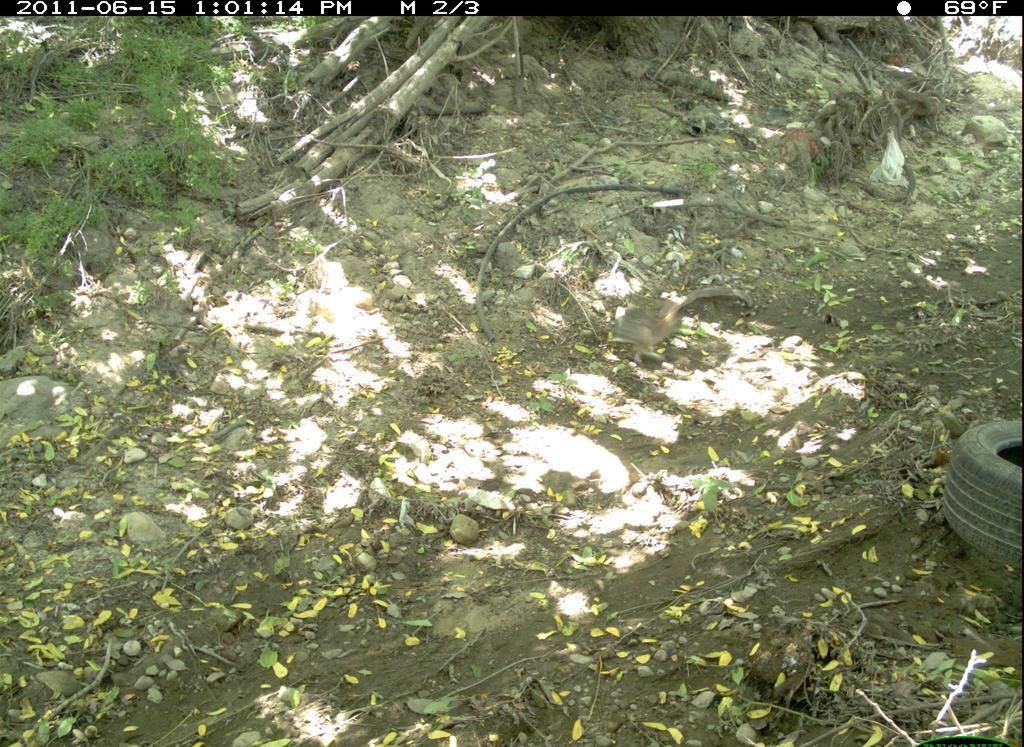rabbit: (611, 293, 698, 366)
